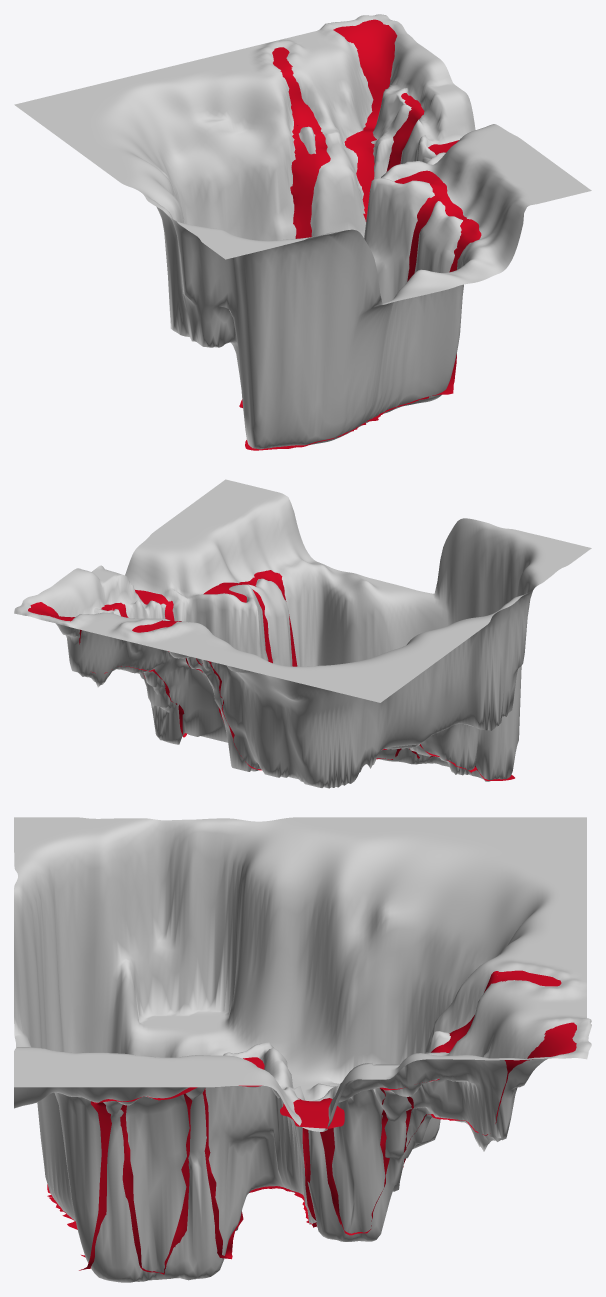
The model's file is LavaCave.fbx.
3 views of the same model, one above another, from view 1: azimuth 30°, elevation 25°; view 2: azimuth 150°, elevation 25°; view 3: azimuth 270°, elevation 25° (orthographic). The views are drawn at different scales.
Parts seen in each view (by area): view 1: Terrain, Fluid; view 2: Terrain, Fluid; view 3: Terrain, Fluid.
Boxes of the visible parts, left/top/right/bottom form: Terrain: left=14, top=14, right=591, bottom=449; Fluid: left=239, top=19, right=481, bottom=450; Terrain: left=14, top=479, right=591, bottom=788; Fluid: left=28, top=570, right=514, bottom=780; Terrain: left=14, top=817, right=591, bottom=1282; Fluid: left=47, top=970, right=576, bottom=1274.
Size of the model in its own units: 50568 by 29682 by 50431.
